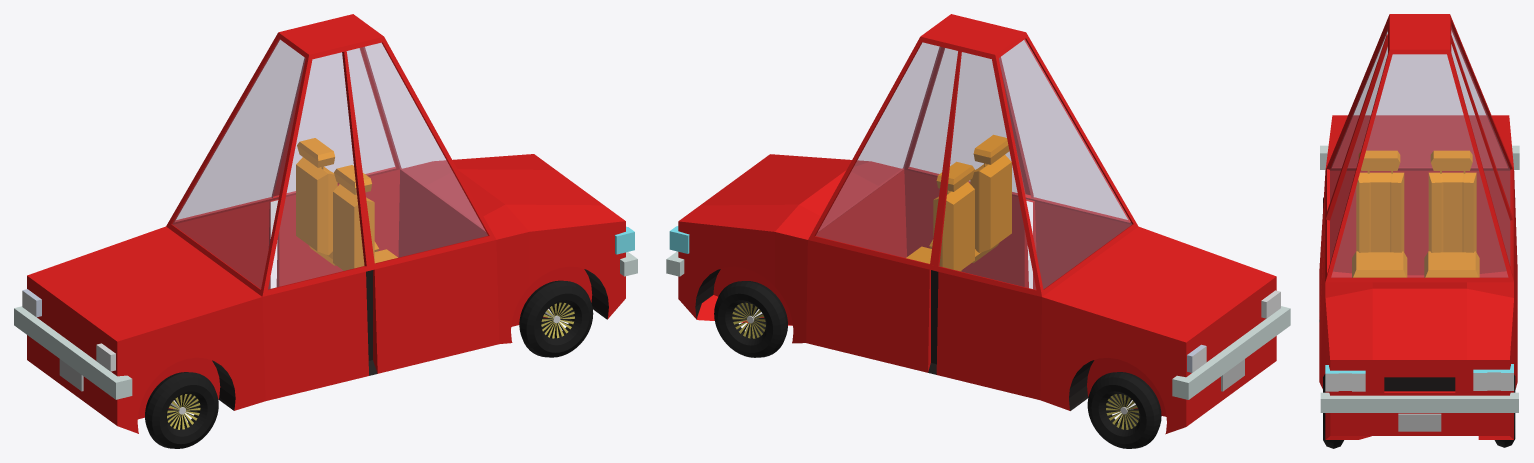
3 views of the same model, side by side, from view 1: azimuth 30°, elevation 25°; view 2: azimuth 150°, elevation 25°; view 3: azimuth 270°, elevation 25° (orthographic). The views are drawn at different scales.
Parts seen in each view (by area): view 1: Cube, Torus.002, Torus.003, Cube.009, Cube.010, Cube.005; view 2: Cube, Torus.001, Torus, Cube.010, Cube.009, Cube.005; view 3: Cube, Cube.009, Cube.010, Cube.008, Cube.002, Cube.001, Cube.003, Cube.005, Torus.002.
Boxes of the visible parts, left/top/right/bottom form: Cube: left=27, top=14, right=625, bottom=433; Torus.002: left=519, top=280, right=593, bottom=357; Torus.003: left=145, top=372, right=218, bottom=448; Cube.009: left=296, top=138, right=378, bottom=265; Cube.010: left=333, top=165, right=397, bottom=270; Cube.005: left=14, top=306, right=132, bottom=399; Cube: left=678, top=14, right=1276, bottom=434; Torus.001: left=1087, top=372, right=1161, bottom=448; Torus: left=714, top=281, right=787, bottom=357; Cube.010: left=929, top=134, right=1011, bottom=263; Cube.009: left=906, top=161, right=974, bottom=271; Cube.005: left=1172, top=306, right=1290, bottom=399; Cube: left=1319, top=14, right=1517, bottom=439; Cube.009: left=1424, top=150, right=1479, bottom=277; Cube.010: left=1352, top=150, right=1407, bottom=277; Cube.008: left=1320, top=392, right=1518, bottom=412; Cube.002: left=1473, top=364, right=1513, bottom=390; Cube.001: left=1325, top=365, right=1365, bottom=391; Cube.003: left=1398, top=413, right=1441, bottom=431; Cube.005: left=1320, top=145, right=1519, bottom=169; Torus.002: left=1323, top=374, right=1343, bottom=448.
Bounding box in the file's own units: 626 × 382 × 212.
